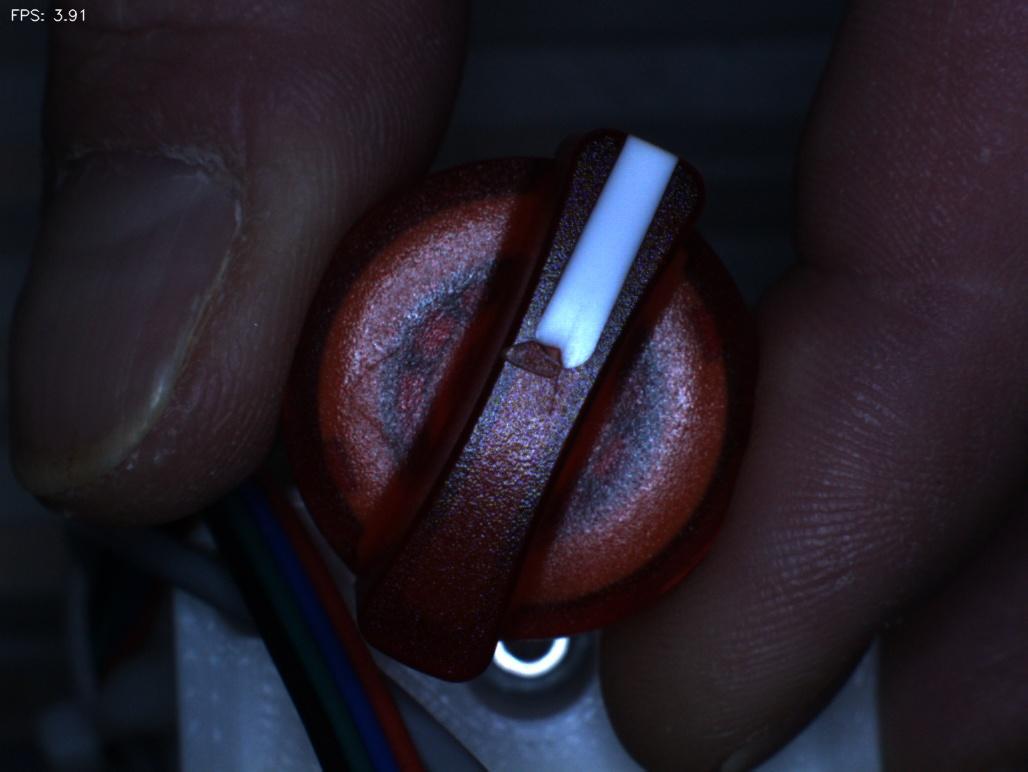Choc: (460, 306, 580, 415)
